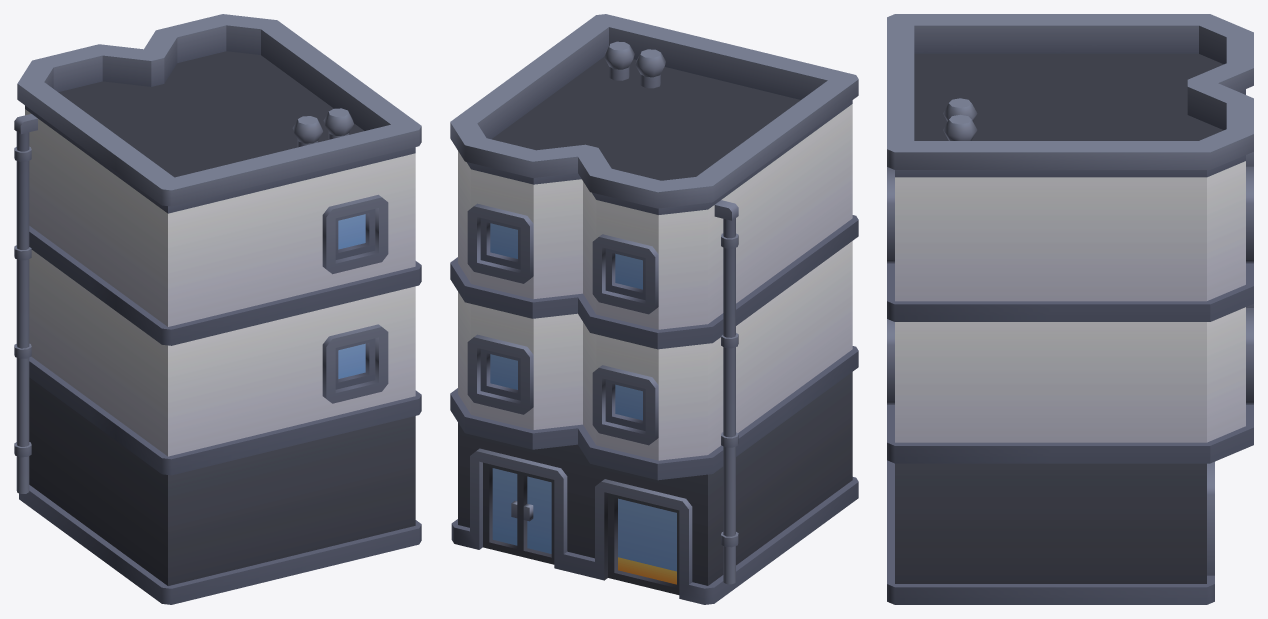
The model's file is affar.glb.
3 renders of one model, left to right at view 1: azimuth 30°, elevation 25°; view 2: azimuth 150°, elevation 25°; view 3: azimuth 270°, elevation 25°, orthographic. The views are drawn at different scales.
Parts seen in each view (by area): view 1: building-a; view 2: building-a; view 3: building-a.
Part boxes in pixels (box(x1,y1,x2,y2)): building-a: box(14, 14, 421, 604); building-a: box(450, 14, 858, 604); building-a: box(887, 14, 1253, 604).
Bounding box in the file's own units: 0.8835 × 1.29 × 0.94.
1 material, 1 textured.
